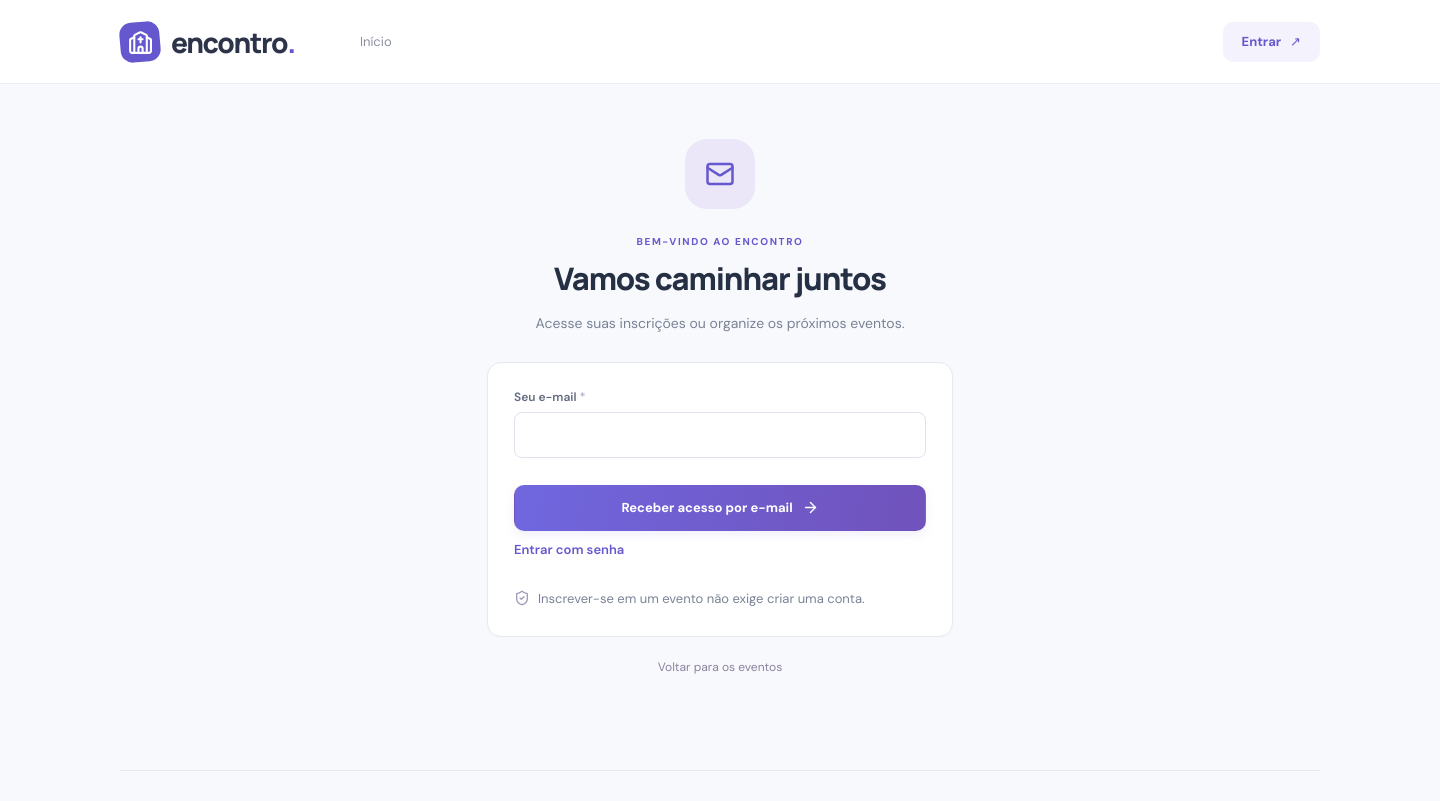
Entrada de organizadores › envia o retorno ao convite junto ao pedido de acesso por e-mail
The width and height of the screenshot is (1440, 801).
Type "organizador@example.com" into the field labelled "Seu e-mail *" at [720, 434], box [514,412,926,458]
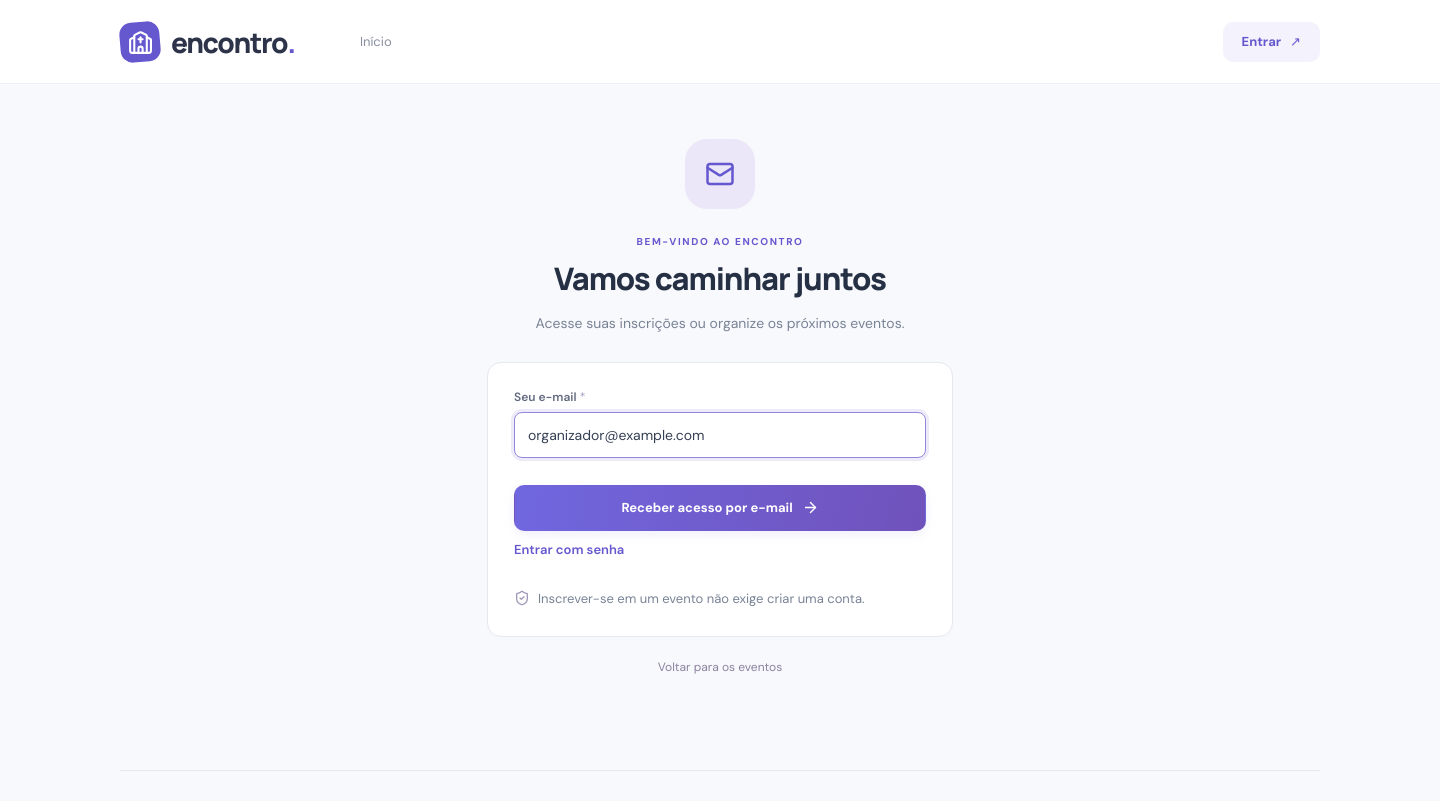
Click the button "Receber acesso por e-mail" at [720, 508], box [514,484,926,530]
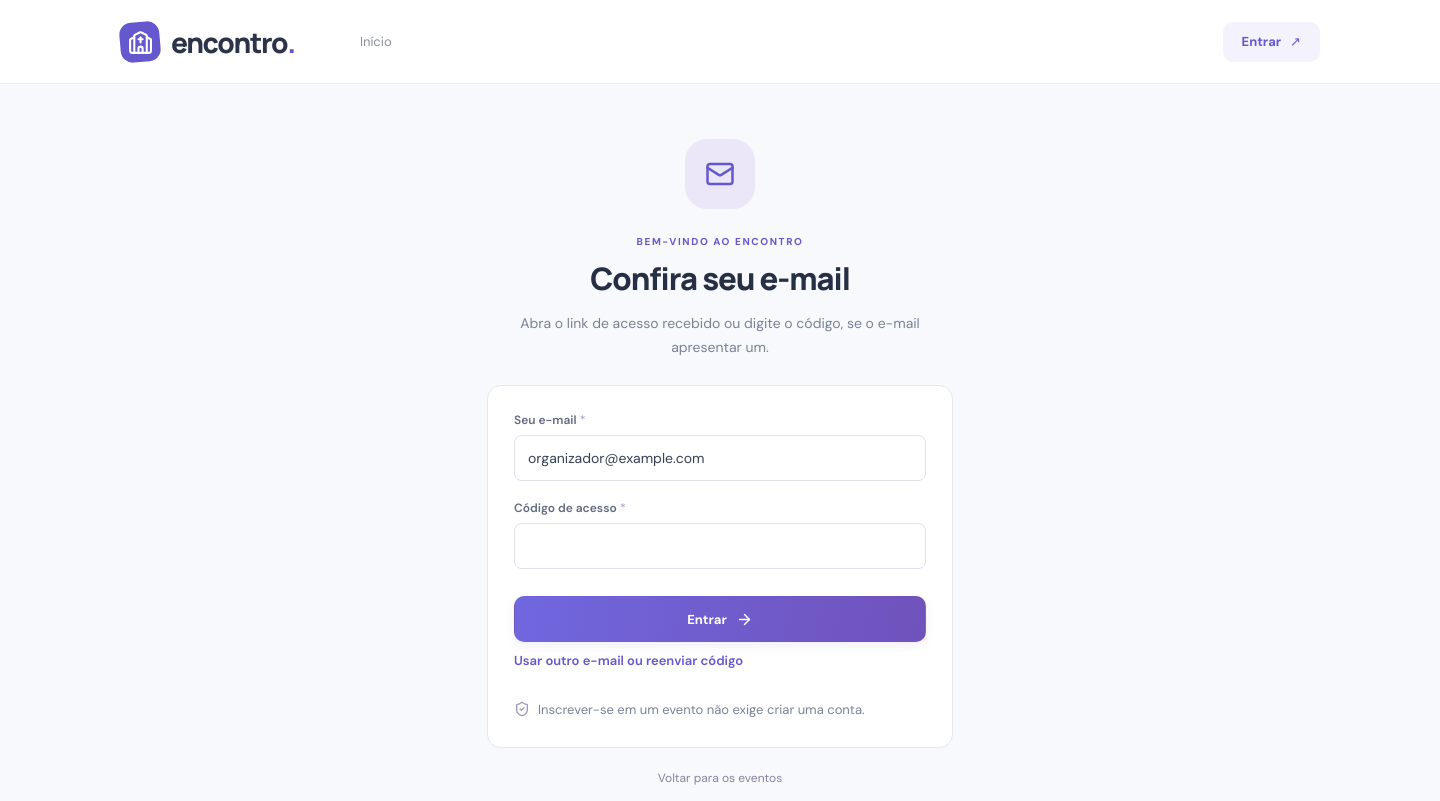
Check: the text "Abra o link de acesso recebido" is shown, box [520,314,920,356]
